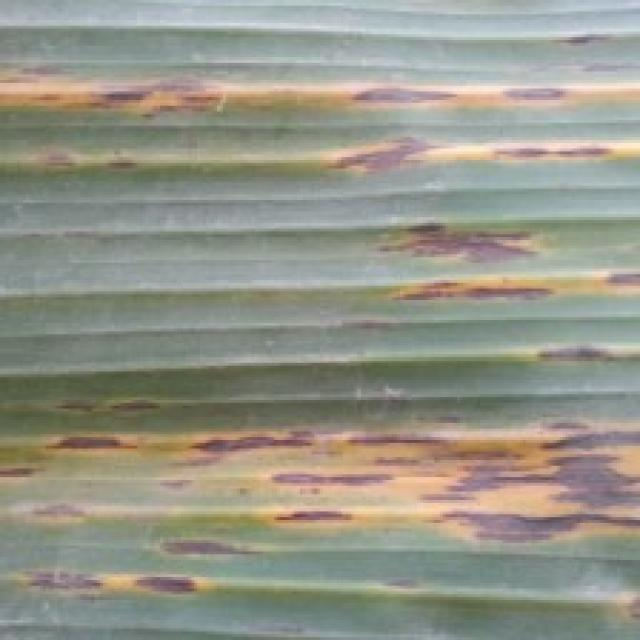Early_leaf_spot: (0, 376, 640, 565), (0, 47, 640, 202), (341, 212, 640, 327), (0, 536, 220, 615), (480, 317, 640, 377), (553, 552, 640, 631), (342, 570, 459, 618)
